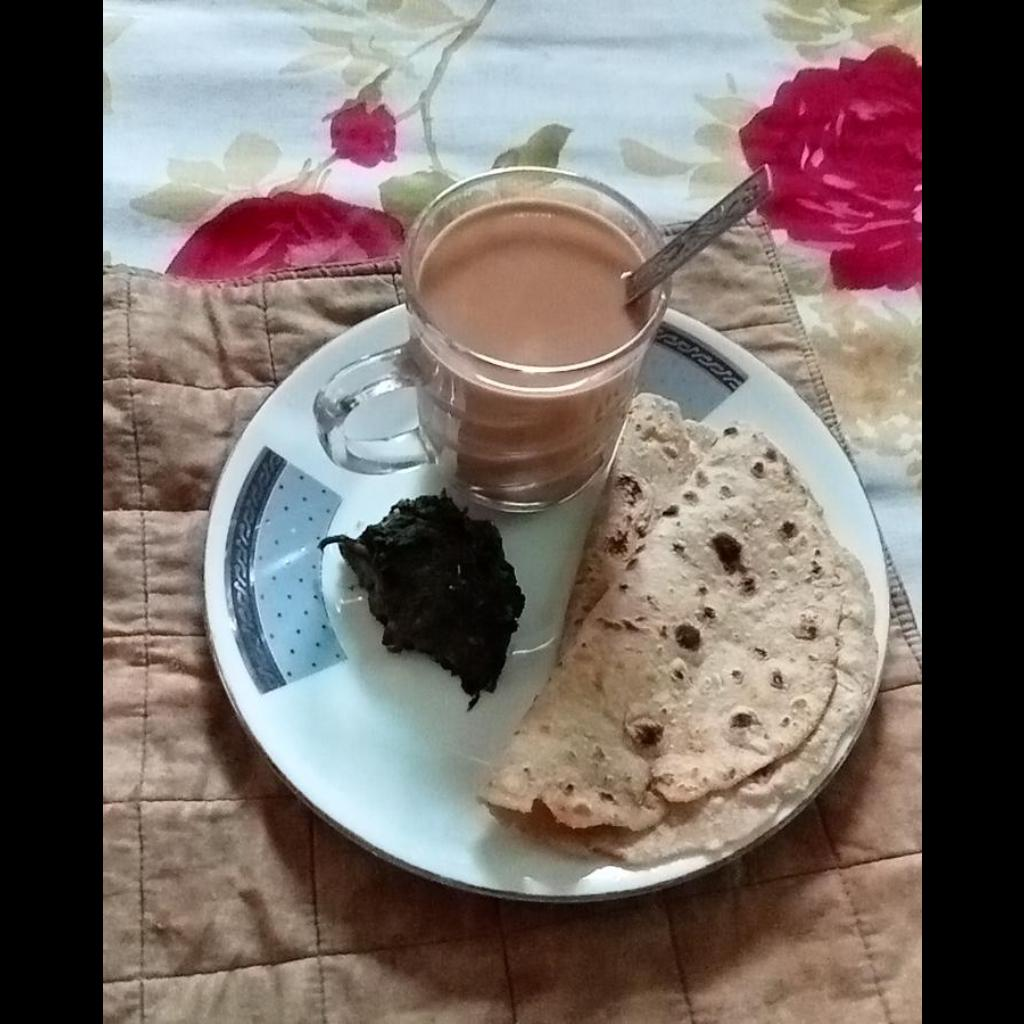cha: (420, 206, 659, 363)
ruti: (477, 392, 880, 864)
vorta: (315, 492, 524, 711)
